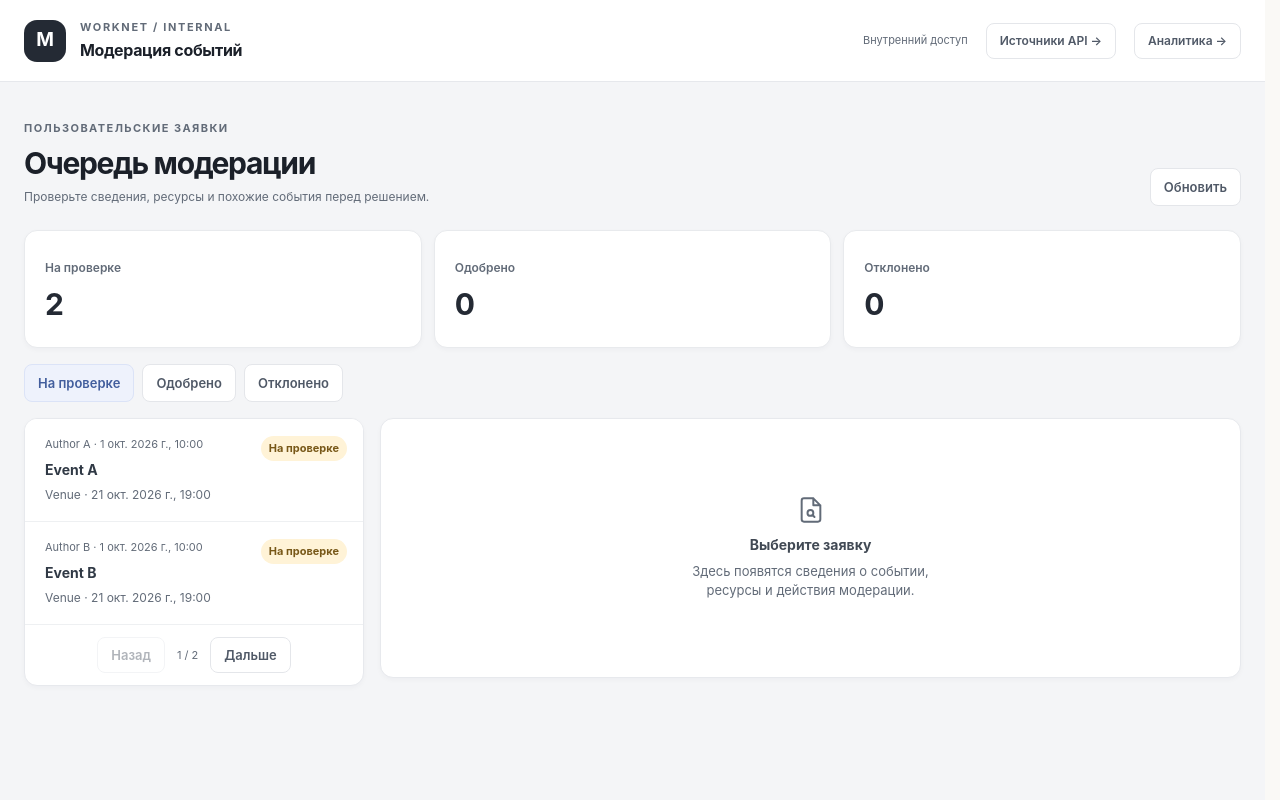
EventModerationPage async request handling › invalidates a pending detail when the pagination changes
Click the button "Event A" at (68, 444), box [25, 419, 363, 522]
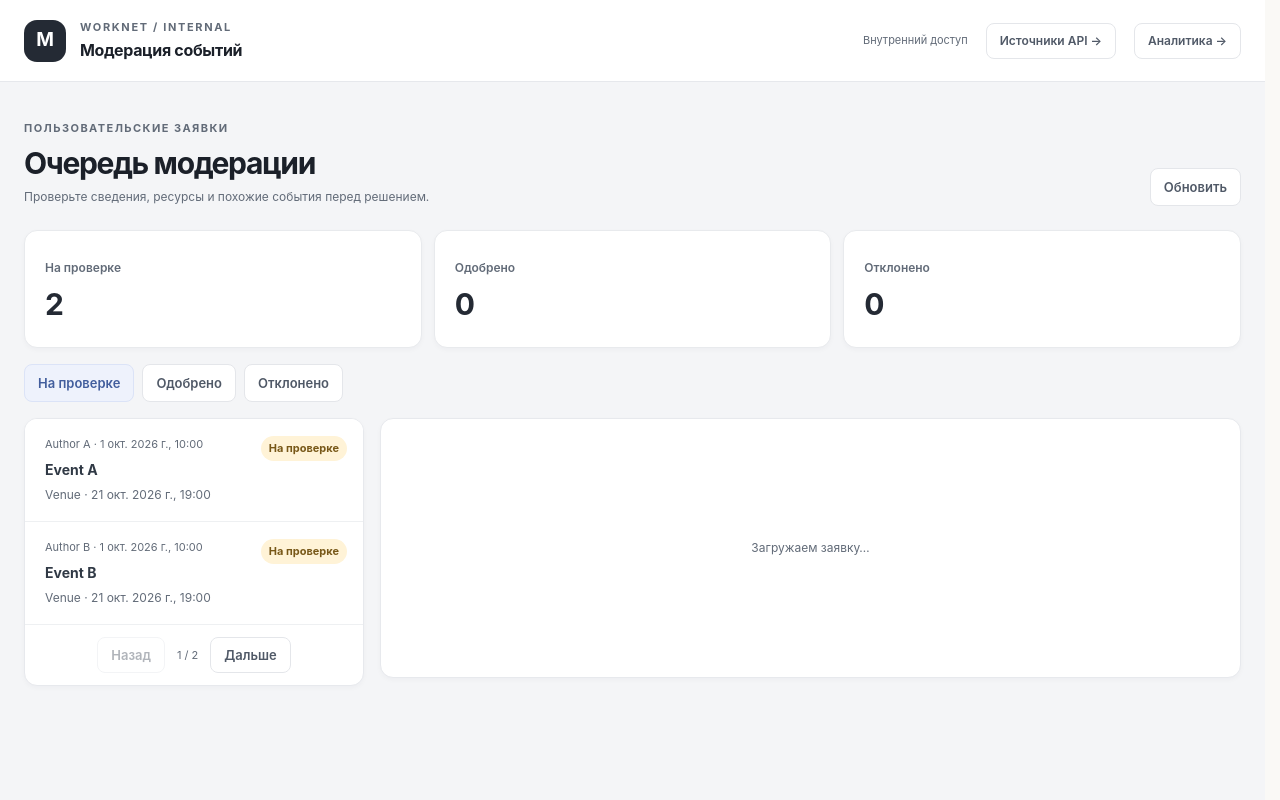
Click the button "Дальше" at (251, 656), box [210, 638, 291, 674]
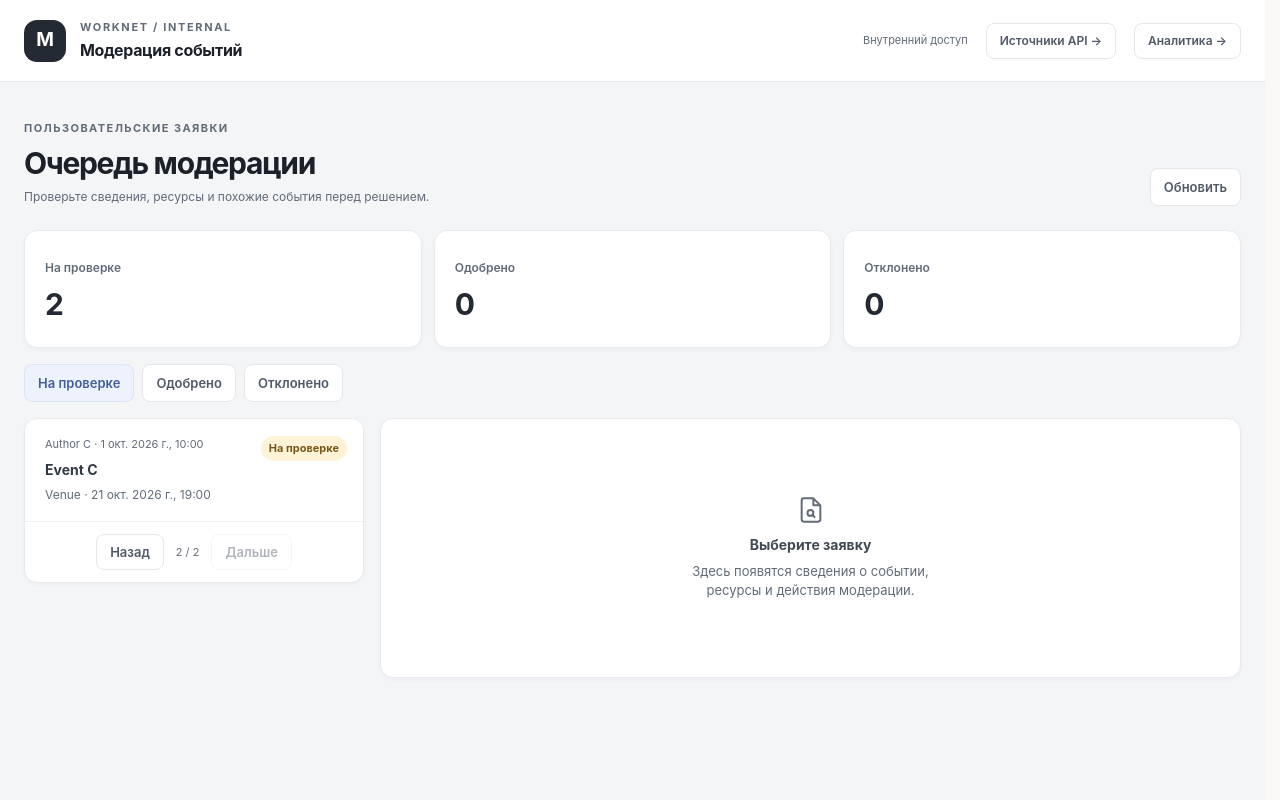
expect the button "Event A" is gone: met
expect the heading "Выберите заявку" is shown: met, box [750, 536, 871, 554]
